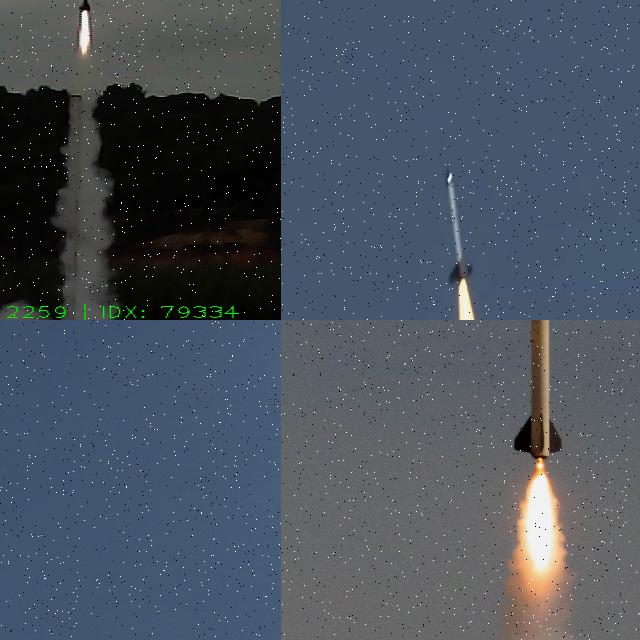Rocket: (512, 320, 564, 462), (446, 168, 473, 286)
